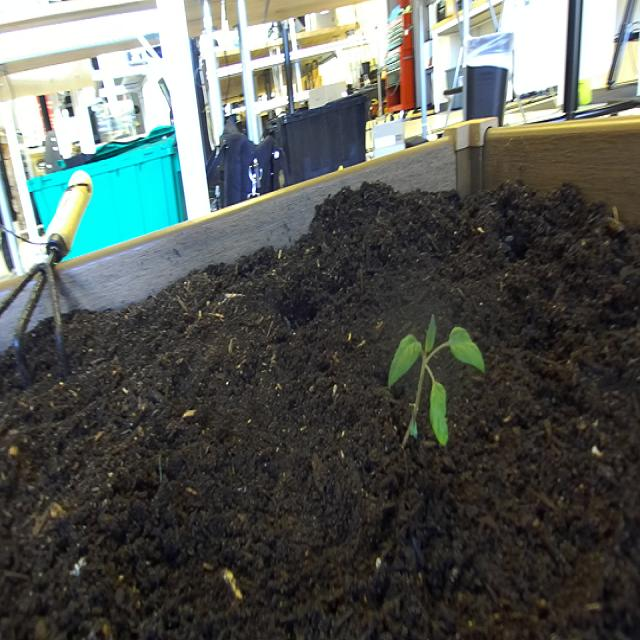Healthy: (380, 309, 493, 463)
